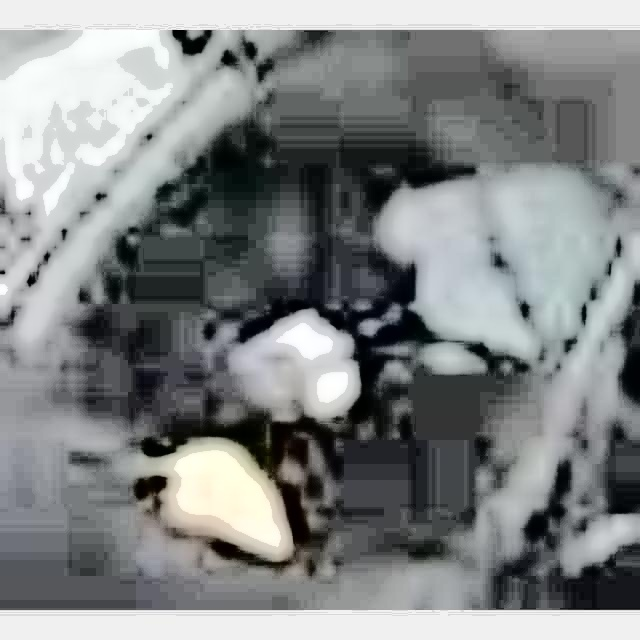pakai: (375, 132, 589, 380)
